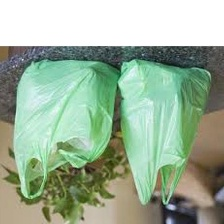plastic_bag: (11, 57, 123, 201), (115, 56, 215, 209)
